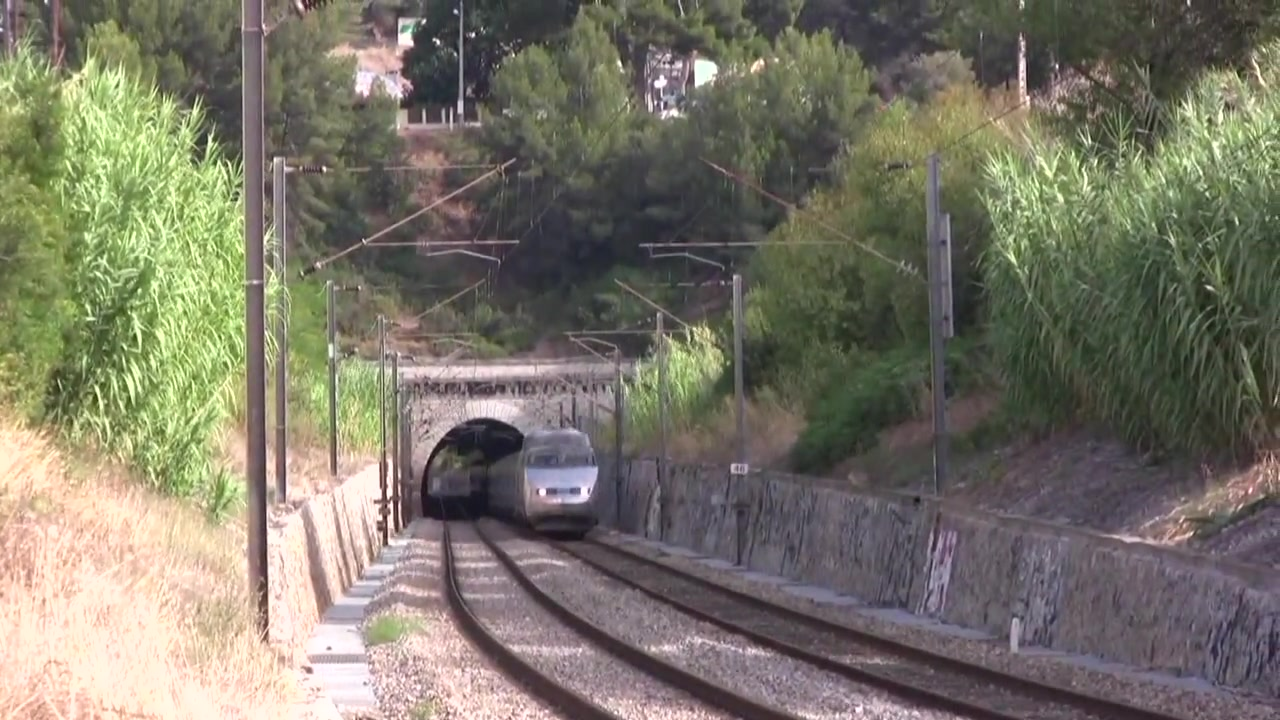train: (428, 425, 607, 546)
